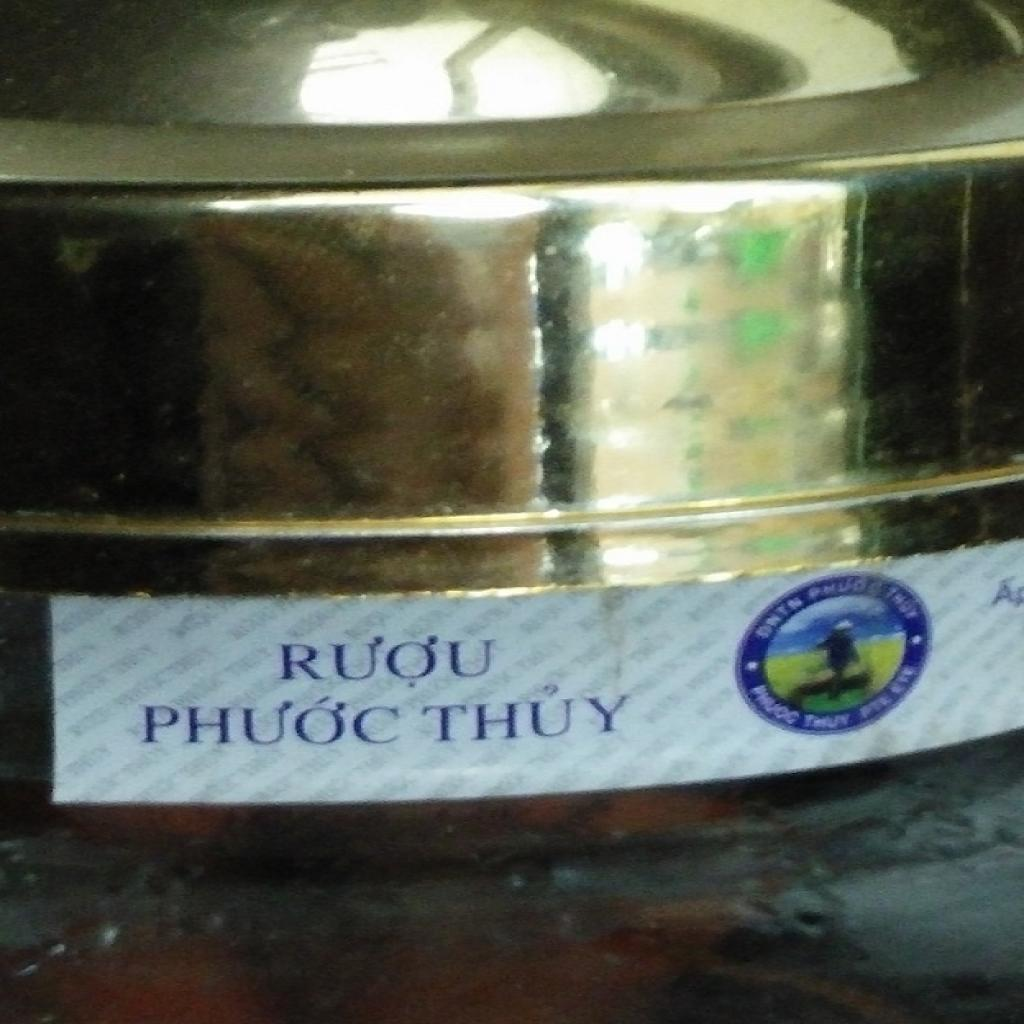text: (417, 679, 640, 747), (136, 697, 407, 748), (274, 634, 502, 693), (745, 681, 804, 731), (752, 592, 808, 641), (804, 575, 886, 603), (881, 581, 929, 623), (988, 576, 1024, 610), (802, 711, 854, 730)
